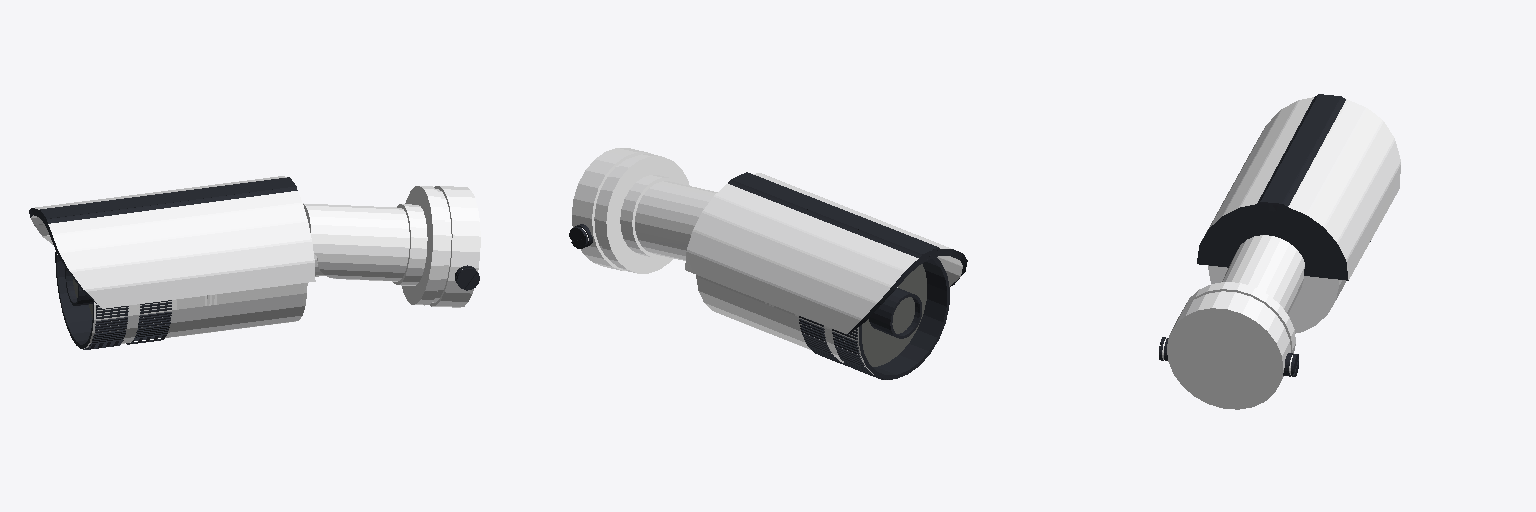
File: Camera.obj
3 renders of one model, left to right at view 1: azimuth 30°, elevation 25°; view 2: azimuth 150°, elevation 25°; view 3: azimuth 270°, elevation 25°, orthographic.
Parts seen in each view (by area): view 1: Camera.001_Camera; view 2: Camera.001_Camera; view 3: Camera.001_Camera.
Boxes of the visible parts, x1,y1,x2,y2 form: Camera.001_Camera: [29, 176, 480, 349]; Camera.001_Camera: [569, 148, 967, 379]; Camera.001_Camera: [1159, 94, 1400, 409].
Size of the model in its own units: 2.7 by 0.9128 by 1.45.